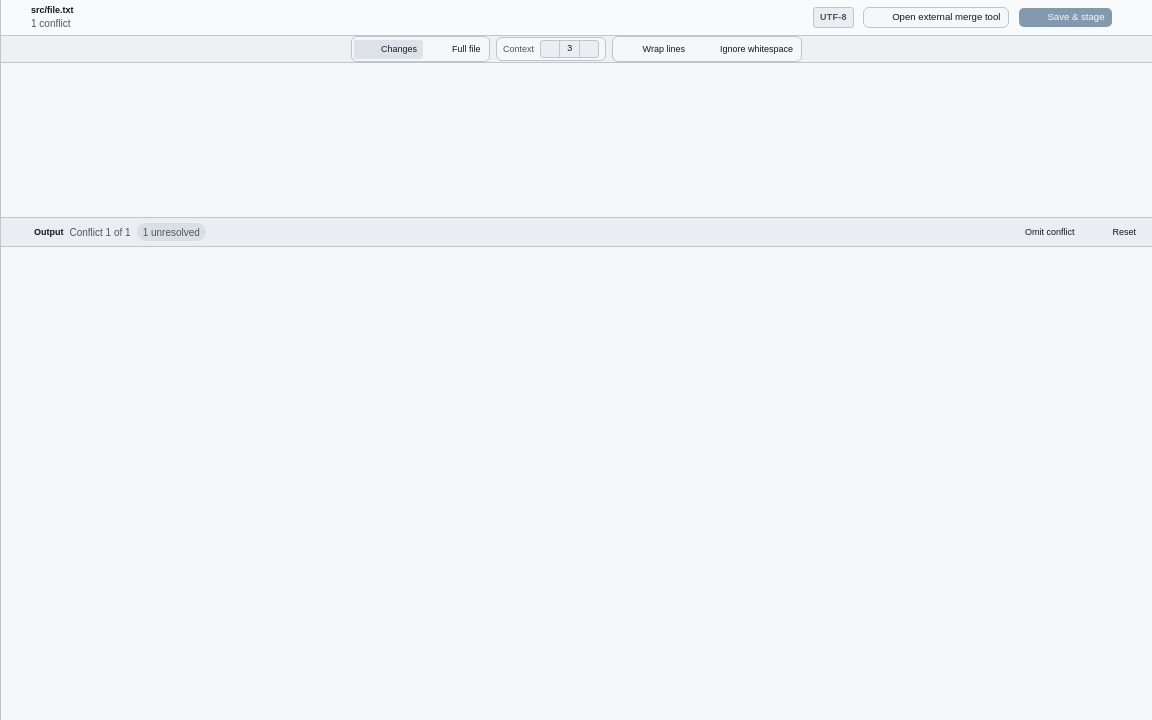
Test: ConflictResolutionView › preserves the draft and re-enables controls when an external tool fails
Click the button "Open external merge tool": (936, 18) [863,7,1009,28]
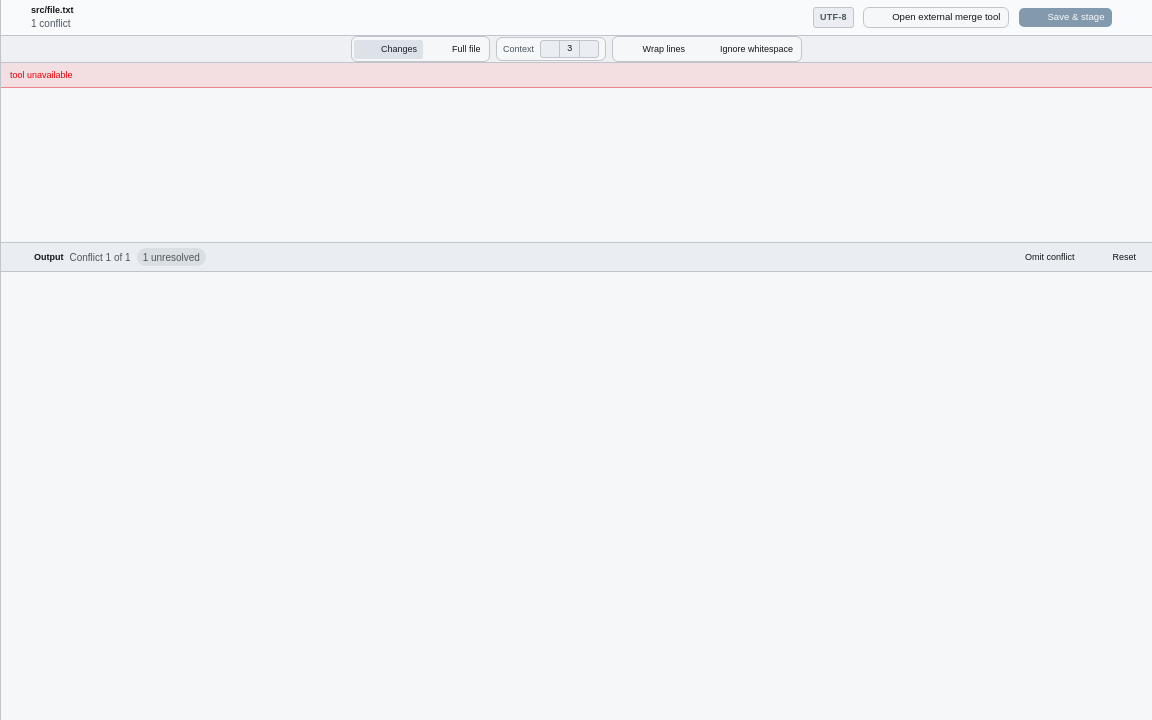
Expected: the text "tool unavailable" is shown, [1,63,1151,88]
